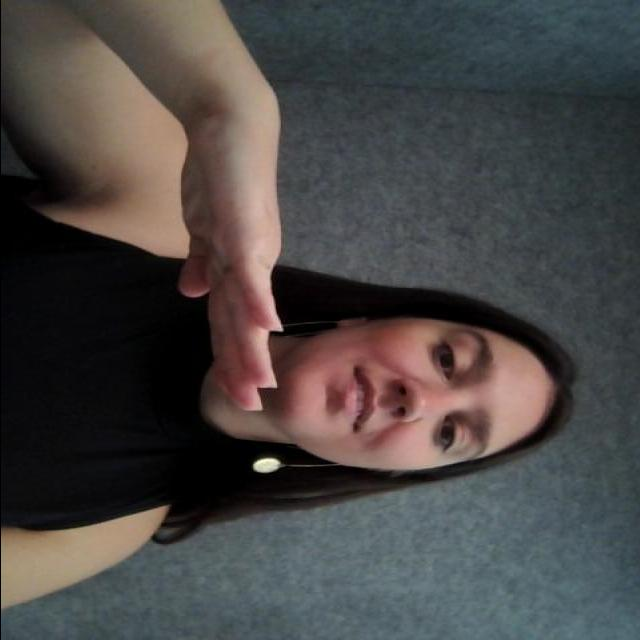Paper: (162, 112, 306, 400)
